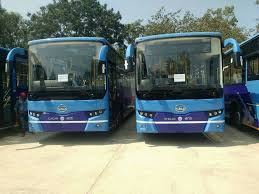Chigari: (131, 31, 233, 139), (21, 31, 117, 134)
